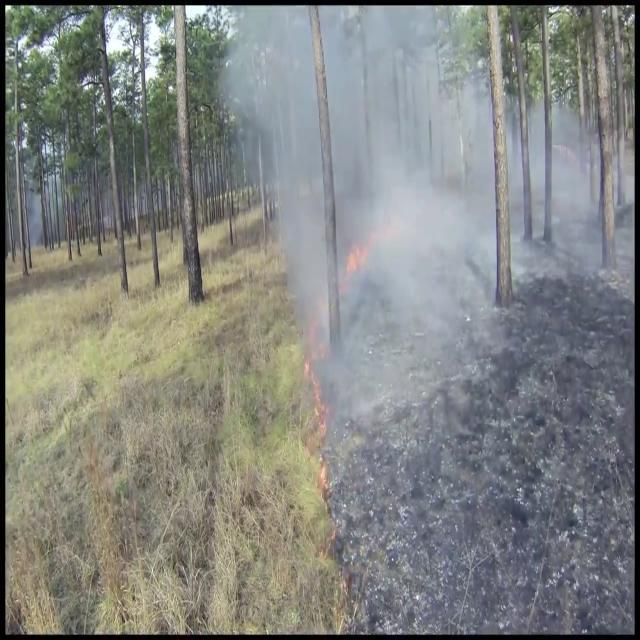Smoke: (240, 8, 618, 517)
